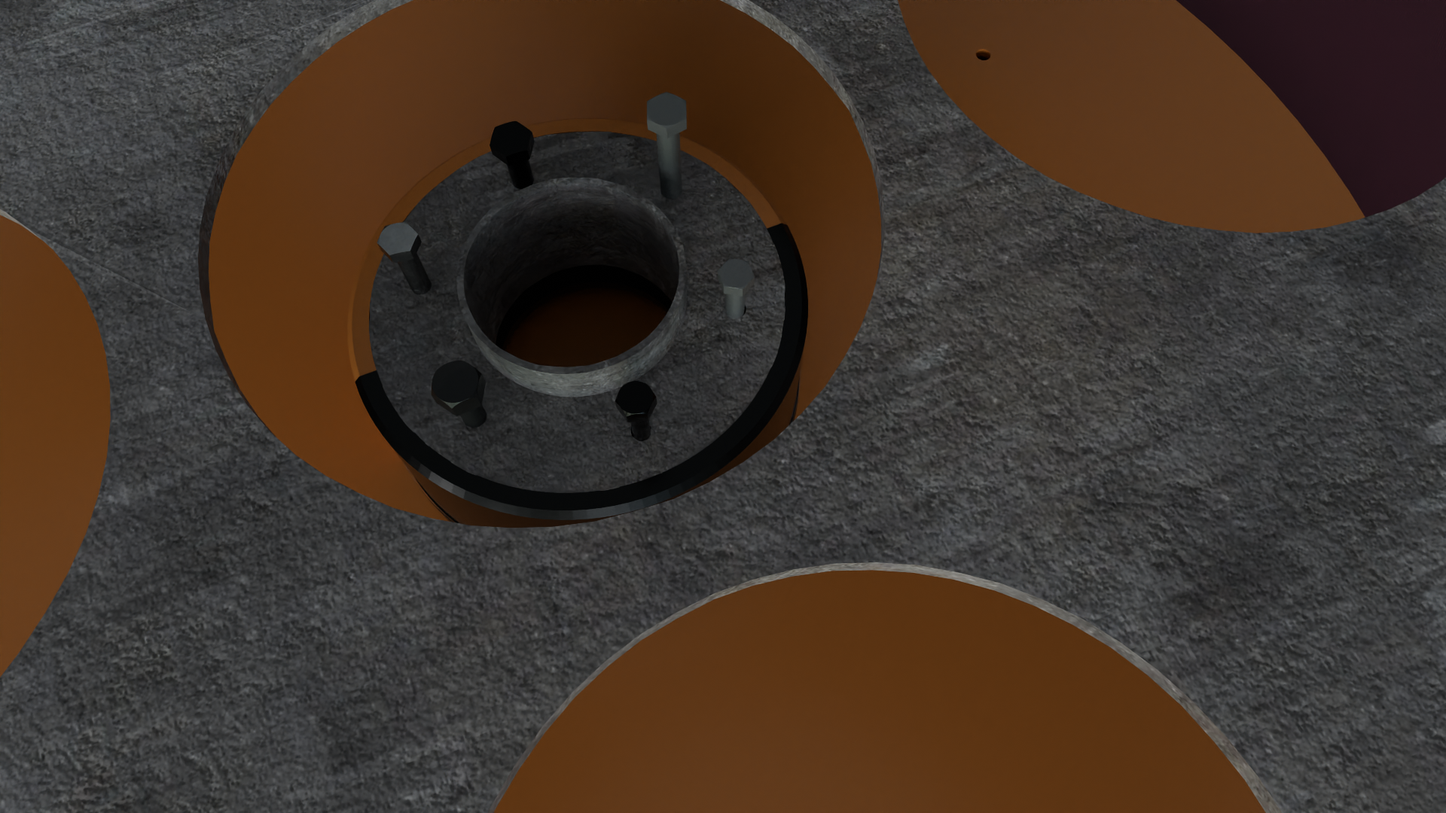bolt: (432, 360, 482, 408), (490, 121, 532, 157), (647, 92, 686, 129), (615, 381, 656, 416), (377, 222, 418, 255), (718, 258, 755, 290)
